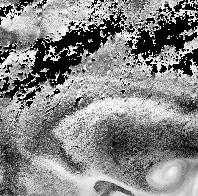CE: (147, 161, 188, 186)
